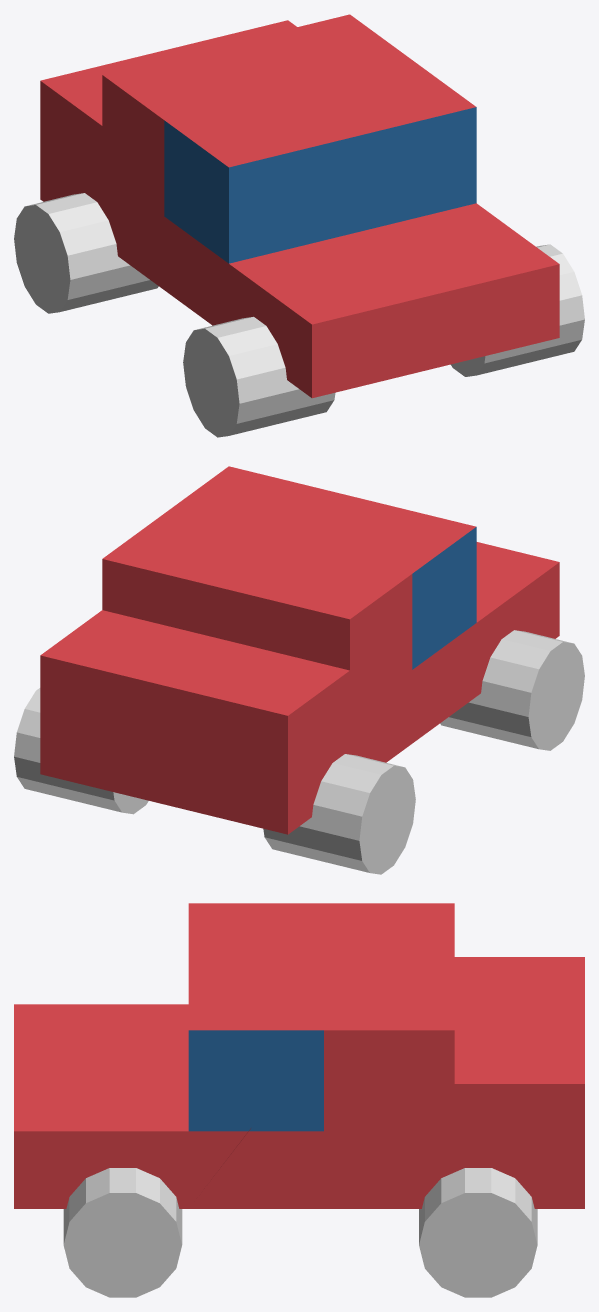
The model's file is car.fbx.
3 views of the same model, one above another, from view 1: azimuth 30°, elevation 25°; view 2: azimuth 150°, elevation 25°; view 3: azimuth 270°, elevation 25° (orthographic). The views are drawn at different scales.
Parts seen in each view (by area): view 1: Car, Window, Front_Wheel_Coll, Cylinder.002; view 2: Car, Cylinder.002, Front_Wheel_Coll, Window; view 3: Car, Window, Front_Wheel_Coll, Cylinder.002.
Boxes of the visible parts, left/top/right/bottom form: Car: left=40, top=14, right=559, bottom=398; Window: left=164, top=107, right=476, bottom=263; Front_Wheel_Coll: left=183, top=244, right=584, bottom=437; Cylinder.002: left=14, top=193, right=158, bottom=313; Car: left=40, top=466, right=559, bottom=834; Cylinder.002: left=14, top=688, right=415, bottom=874; Front_Wheel_Coll: left=440, top=630, right=584, bottom=750; Window: left=412, top=527, right=476, bottom=669; Car: left=14, top=903, right=584, bottom=1208; Window: left=188, top=1030, right=323, bottom=1131; Front_Wheel_Coll: left=63, top=1168, right=182, bottom=1297; Cylinder.002: left=419, top=1168, right=537, bottom=1297.
Size of the model in its own units: 279 by 178 by 380.
